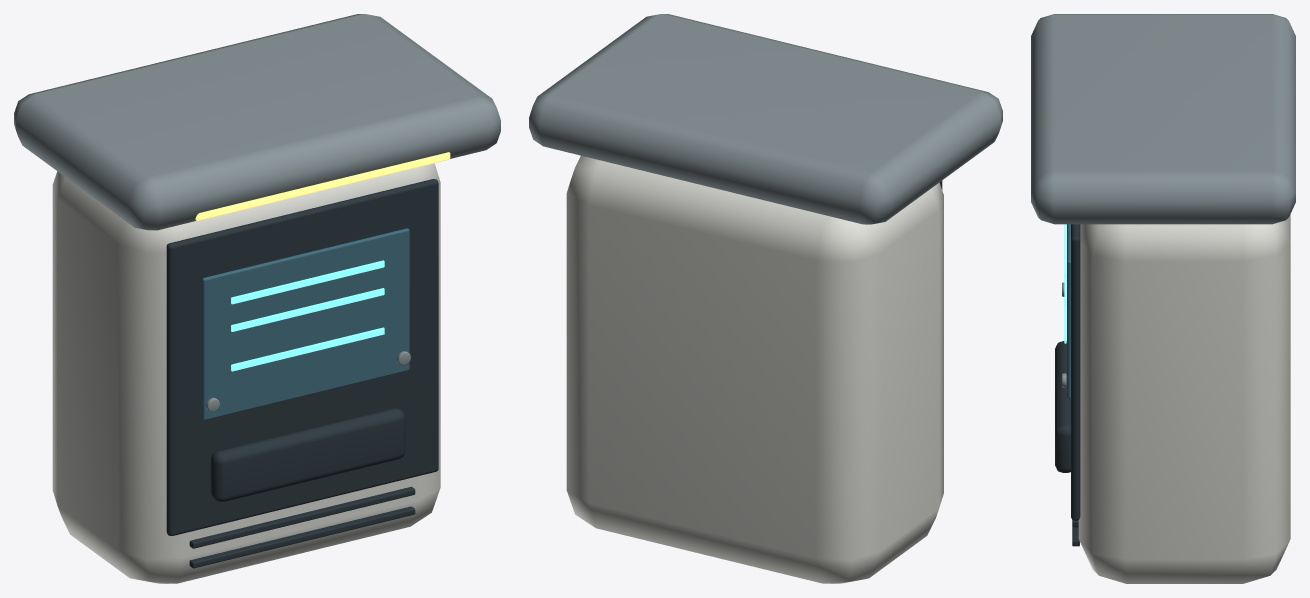
The model's file is mission-console.glb.
The picture shows the model from 3 angles, left to right: view 1: azimuth 30°, elevation 25°; view 2: azimuth 150°, elevation 25°; view 3: azimuth 270°, elevation 25°; orthographic projection. The views are drawn at different scales.
Parts seen in each view (by area): view 1: NC brushed titanium.009, NC graphite.009, NC ceramic ivory.009, NC sapphire glazing.009, NC cyan.006, NC amber.006; view 2: NC ceramic ivory.009, NC brushed titanium.009; view 3: NC ceramic ivory.009, NC brushed titanium.009, NC graphite.009, NC sapphire glazing.009, NC cyan.006.
Part boxes in pixels (x1,y1,x2,y2): NC brushed titanium.009: [14, 14, 500, 411]; NC graphite.009: [166, 179, 438, 568]; NC ceramic ivory.009: [52, 163, 440, 583]; NC sapphire glazing.009: [202, 228, 409, 420]; NC cyan.006: [231, 260, 384, 371]; NC amber.006: [195, 152, 450, 220]; NC ceramic ivory.009: [566, 155, 943, 583]; NC brushed titanium.009: [529, 14, 1002, 224]; NC ceramic ivory.009: [1078, 214, 1290, 583]; NC brushed titanium.009: [1031, 14, 1295, 387]; NC graphite.009: [1055, 224, 1080, 546]; NC sapphire glazing.009: [1067, 224, 1070, 398]; NC cyan.006: [1064, 224, 1066, 343].
Size of the model in its own units: 1.57 by 1.81 by 1.
